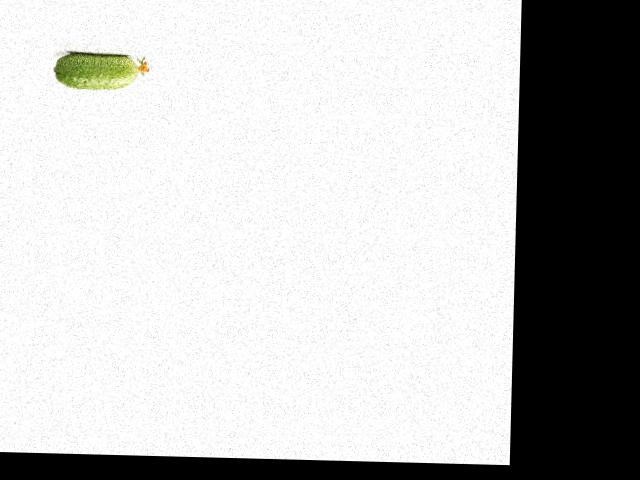cucumber: (52, 51, 148, 90)
